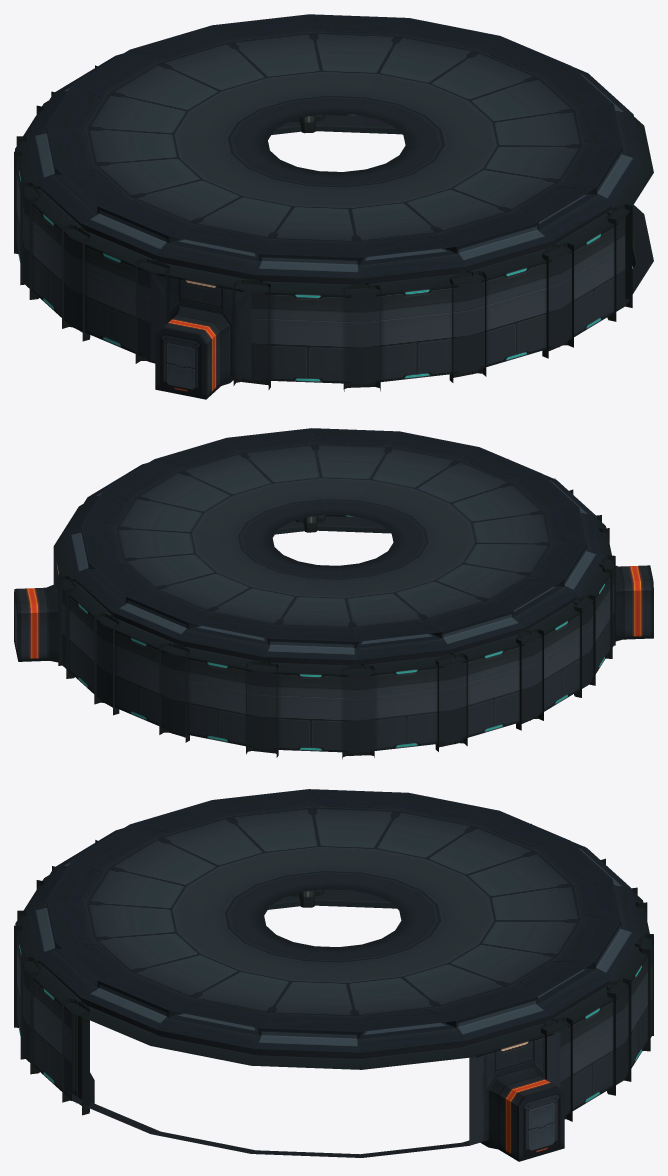
Rendered from ts_cjfaj001a.FBX.
3 views of the same model, one above another, from view 1: azimuth 30°, elevation 25°; view 2: azimuth 150°, elevation 25°; view 3: azimuth 270°, elevation 25° (orthographic). The views are drawn at different scales.
Visible parts, largest first — view 1: ts_cjfaj001a; view 2: ts_cjfaj001a; view 3: ts_cjfaj001a.
Boxes of the visible parts, x1=… form: ts_cjfaj001a: x1=14, y1=14, x2=653, y2=399; ts_cjfaj001a: x1=14, y1=428, x2=653, y2=759; ts_cjfaj001a: x1=14, y1=789, x2=653, y2=1161.
Size of the model in its own units: 25.26 by 5.3 by 25.33.
